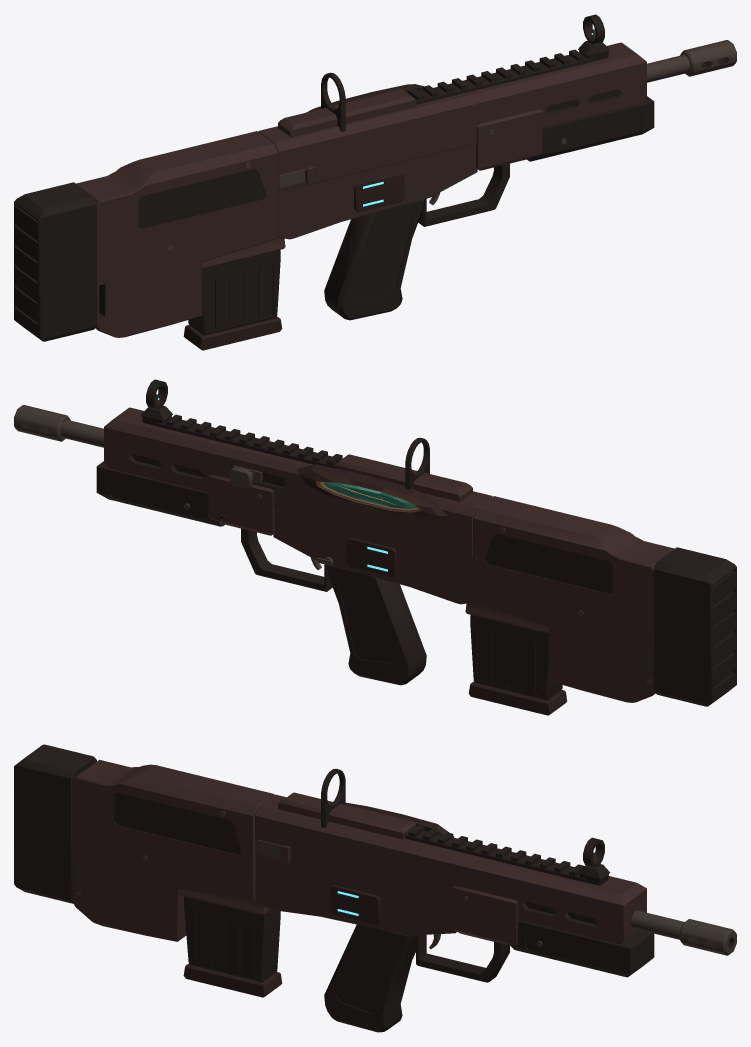
The model's file is Bulldog_Rootglass_v01.fbx.
The picture shows the model from 3 angles, top to bottom: view 1: azimuth 30°, elevation 25°; view 2: azimuth 150°, elevation 25°; view 3: azimuth 330°, elevation 25°; orthographic projection.
Parts seen in each view (by area): view 1: Bulldog_Stock, Bulldog_Receiver, Bulldog_Grip, Bulldog_Mag, Bulldog_Handguard, Bulldog_Barrel, Bulldog_Sights; view 2: Bulldog_Stock, Bulldog_Receiver, Bulldog_Grip, Bulldog_Mag, Bulldog_Handguard, Rootglass_Left_CarvedShell, Bulldog_Barrel, Bulldog_Sights, Rootglass_Left_FacetedMineral, Bulldog_ChargingHandle; view 3: Bulldog_Stock, Bulldog_Receiver, Bulldog_Grip, Bulldog_Mag, Bulldog_Handguard, Bulldog_Barrel, Bulldog_Sights, Rootglass_Left_CarvedShell.
Part boxes in pixels (bbox=[...]): Bulldog_Stock: bbox=[14, 131, 285, 341]; Bulldog_Receiver: bbox=[258, 42, 646, 239]; Bulldog_Grip: bbox=[324, 163, 509, 320]; Bulldog_Mag: bbox=[183, 250, 282, 350]; Bulldog_Handguard: bbox=[527, 96, 654, 161]; Bulldog_Barrel: bbox=[647, 40, 736, 82]; Bulldog_Sights: bbox=[321, 14, 610, 131]; Bulldog_Stock: bbox=[465, 496, 736, 706]; Bulldog_Receiver: bbox=[104, 407, 492, 604]; Bulldog_Grip: bbox=[241, 528, 426, 685]; Bulldog_Mag: bbox=[468, 615, 567, 715]; Bulldog_Handguard: bbox=[96, 461, 223, 526]; Rootglass_Left_CarvedShell: bbox=[296, 464, 447, 520]; Bulldog_Barrel: bbox=[14, 405, 103, 447]; Bulldog_Sights: bbox=[140, 379, 429, 489]; Rootglass_Left_FacetedMineral: bbox=[323, 482, 416, 508]; Bulldog_ChargingHandle: bbox=[229, 465, 262, 488]; Bulldog_Stock: bbox=[14, 744, 274, 941]; Bulldog_Receiver: bbox=[255, 792, 646, 945]; Bulldog_Grip: bbox=[324, 924, 509, 1032]; Bulldog_Mag: bbox=[183, 896, 282, 997]; Bulldog_Handguard: bbox=[509, 920, 654, 977]; Bulldog_Barrel: bbox=[631, 910, 736, 955]; Bulldog_Sights: bbox=[321, 768, 610, 879]; Rootglass_Left_CarvedShell: bbox=[345, 802, 453, 837].
Bounding box in the file's own units: 290 × 95.96 × 23.
